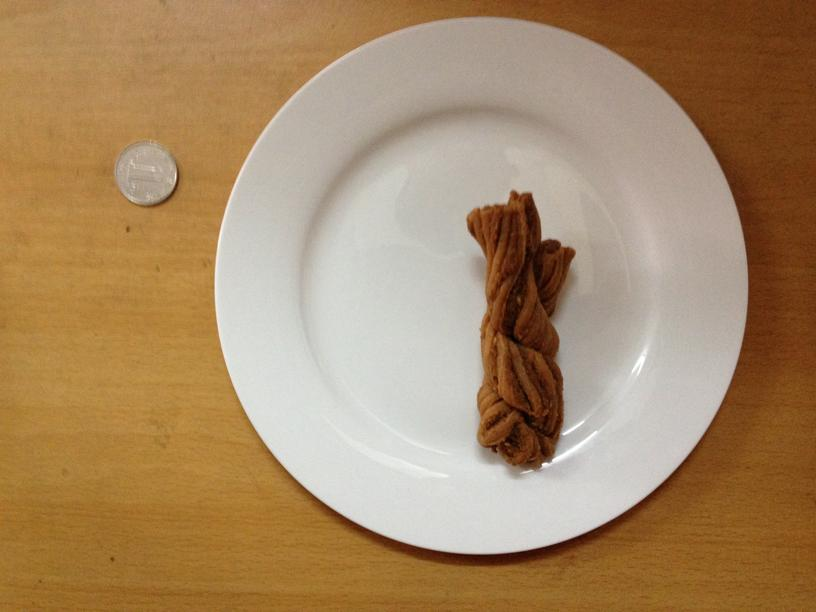coin: (114, 138, 180, 206)
fired_dough_twist: (462, 195, 574, 468)
